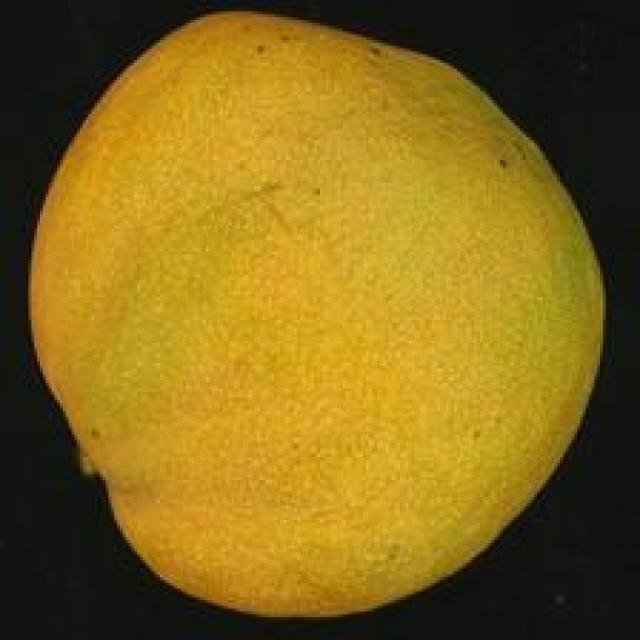Mango: (2, 14, 640, 622)
